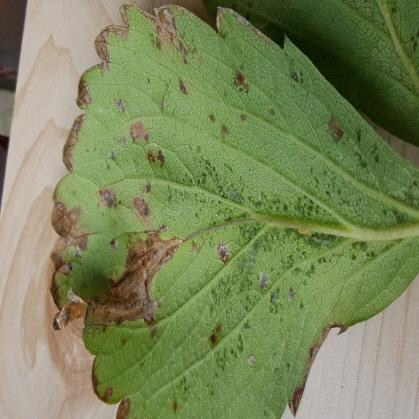Angular Leafspot: (48, 1, 418, 418)
